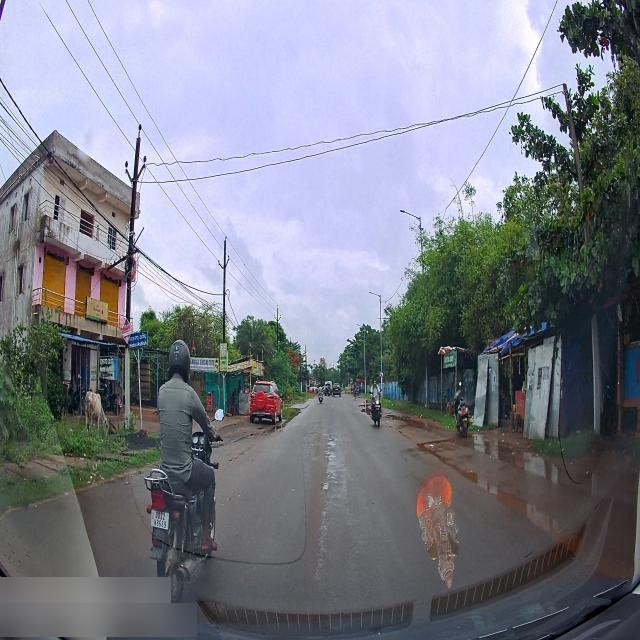pothole: (322, 433, 335, 495)
